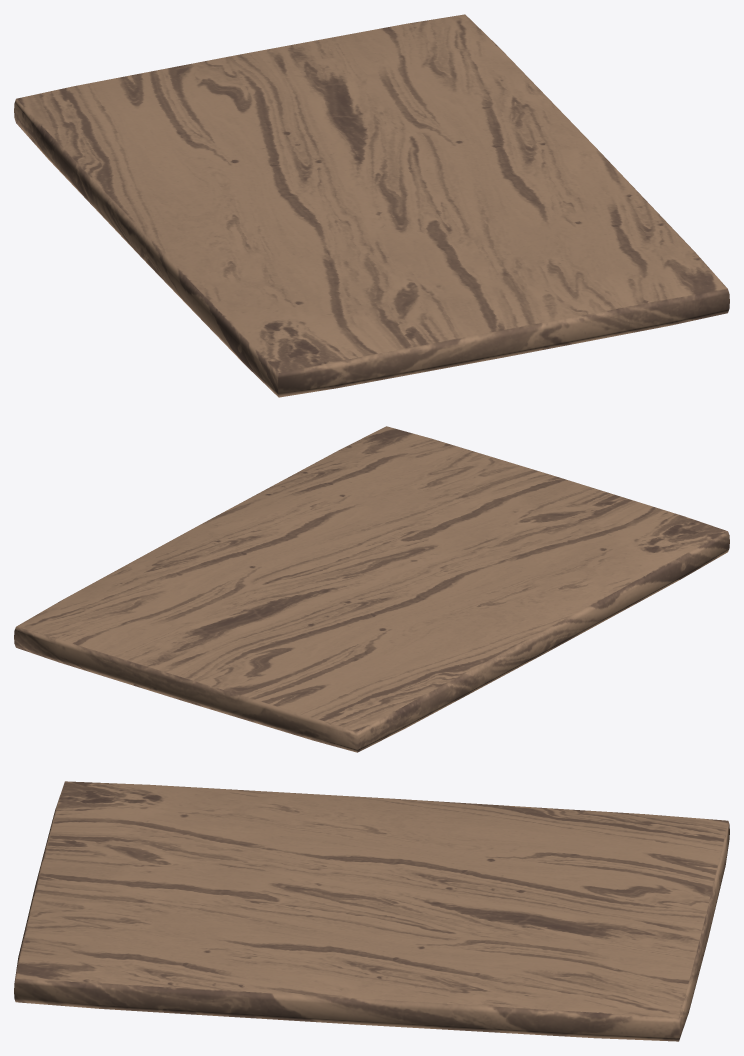
Rendered from PR_Cuttingboard_01.fbx.
3 renders of one model, top to bottom at view 1: azimuth 30°, elevation 25°; view 2: azimuth 150°, elevation 25°; view 3: azimuth 270°, elevation 25°, orthographic. The views are drawn at different scales.
Parts seen in each view (by area): view 1: cuttingboard; view 2: cuttingboard; view 3: cuttingboard.
Part boxes in pixels (x1,y1,x2,y2): cuttingboard: [14, 14, 729, 397]; cuttingboard: [14, 426, 729, 752]; cuttingboard: [14, 781, 729, 1041].
Bounding box in the file's own units: 7448 × 510 × 9454.
1 material, 1 textured.
